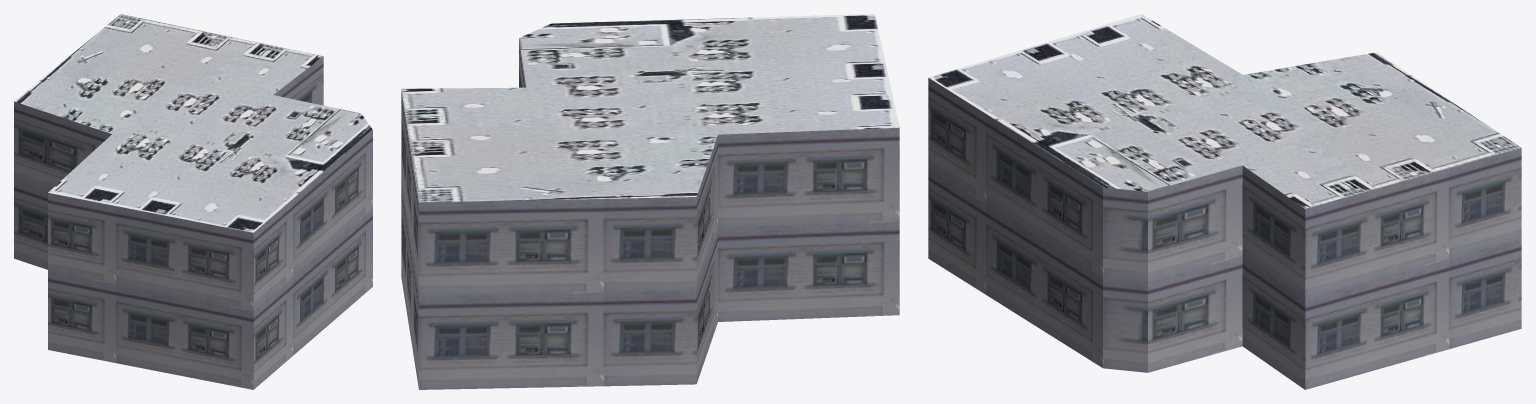
File: ResTex__43.fbx
3 renders of one model, left to right at view 1: azimuth 30°, elevation 25°; view 2: azimuth 150°, elevation 25°; view 3: azimuth 270°, elevation 25°, orthographic. The views are drawn at different scales.
Visible parts, largest first — view 1: CityEngineMaterial_1_m, CityEngineMaterial_m; view 2: CityEngineMaterial_1_m, CityEngineMaterial_m; view 3: CityEngineMaterial_1_m, CityEngineMaterial_m.
Part boxes in pixels (<box>): CityEngineMaterial_1_m: <box>14,56,372,389</box>; CityEngineMaterial_m: <box>14,14,372,232</box>; CityEngineMaterial_1_m: <box>401,40,899,389</box>; CityEngineMaterial_m: <box>401,14,899,202</box>; CityEngineMaterial_1_m: <box>928,78,1521,389</box>; CityEngineMaterial_m: <box>929,14,1521,208</box>.
Bounding box in the file's own units: 13.86 × 6 × 17.82.
Materials: 2 (2 with a texture image).
